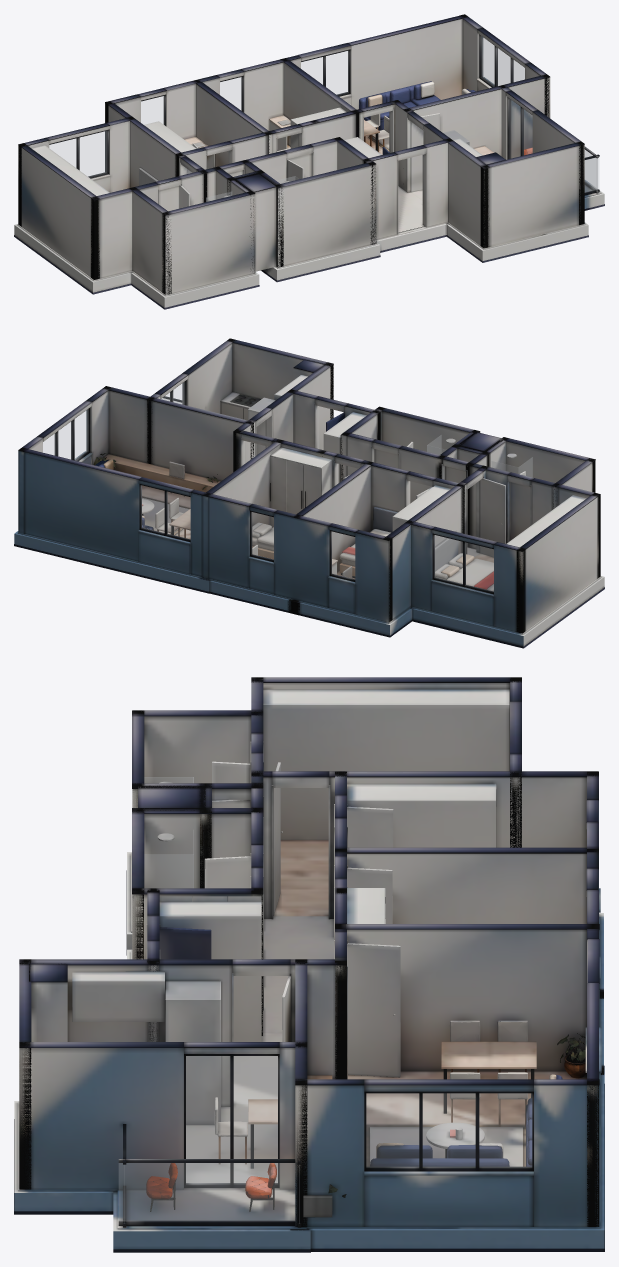
3 renders of one model, top to bottom at view 1: azimuth 30°, elevation 25°; view 2: azimuth 150°, elevation 25°; view 3: azimuth 270°, elevation 25°, orthographic. The views are drawn at different scales.
Parts seen in each view (by area): view 1: plan, glass0_m, glass3_m, glass4_m, glass5_m, glass1_m, glass2_m, railg1_m; view 2: plan, glass0_m, glass3_m, glass4_m, glass1_m, glass2_m; view 3: plan, glass4_m, glass5_m, railg4_m, sg.002_m.
Boxes of the visible parts, left/top/right/bottom form: plan: left=14, top=14, right=604, bottom=309; glass0_m: left=49, top=131, right=107, bottom=176; glass3_m: left=301, top=51, right=348, bottom=94; glass4_m: left=481, top=36, right=524, bottom=86; glass5_m: left=509, top=99, right=532, bottom=158; glass1_m: left=141, top=96, right=164, bottom=124; glass2_m: left=220, top=77, right=241, bottom=110; railg1_m: left=585, top=158, right=598, bottom=192; plan: left=14, top=338, right=604, bottom=648; glass0_m: left=434, top=535, right=493, bottom=591; glass3_m: left=141, top=485, right=190, bottom=539; glass4_m: left=43, top=409, right=88, bottom=460; glass1_m: left=331, top=531, right=354, bottom=579; glass2_m: left=251, top=512, right=273, bottom=559; plan: left=14, top=677, right=604, bottom=1252; glass4_m: left=366, top=1093, right=531, bottom=1167; glass5_m: left=186, top=1056, right=277, bottom=1183; railg4_m: left=119, top=1163, right=294, bottom=1221; sg.002_m: left=144, top=854, right=193, bottom=887.
Size of the model in its own units: 14.04 by 2.62 by 8.5.
Materials: 2 (1 with a texture image).
